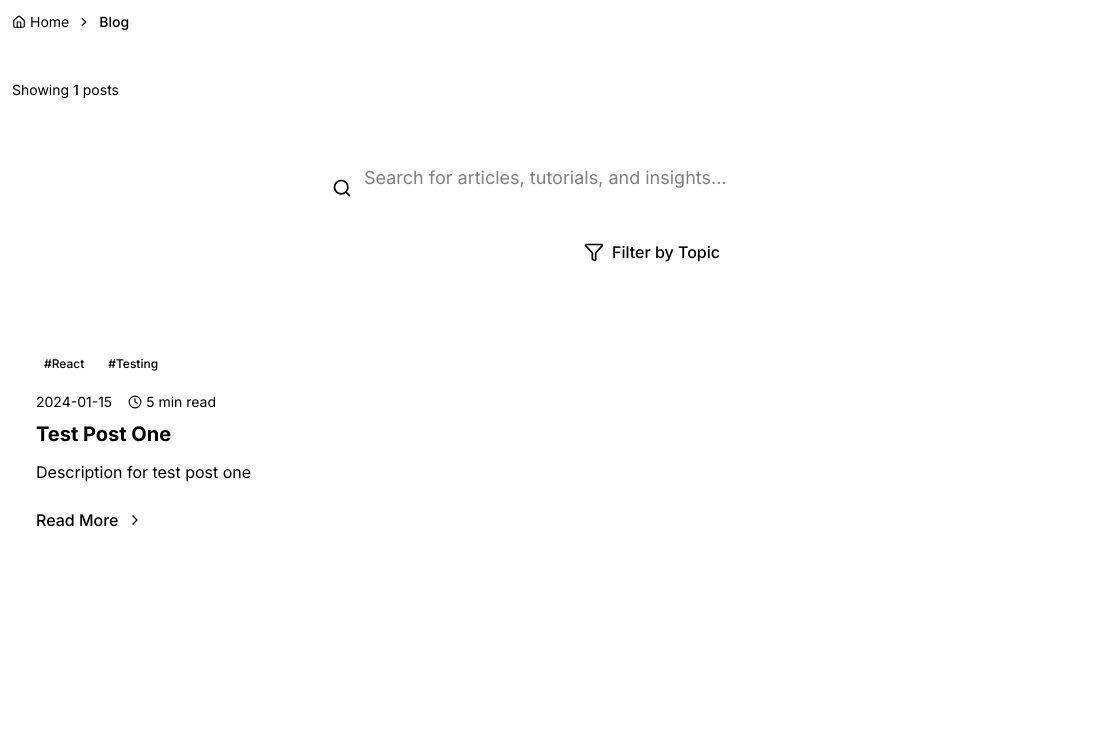
Test: BlogList Component › groups posts with missing category under General
The width and height of the screenshot is (1093, 744).
// Open filter to see groups
Click the button "Filter by Topic".
click(652, 252)  # box [316,224,988,280]
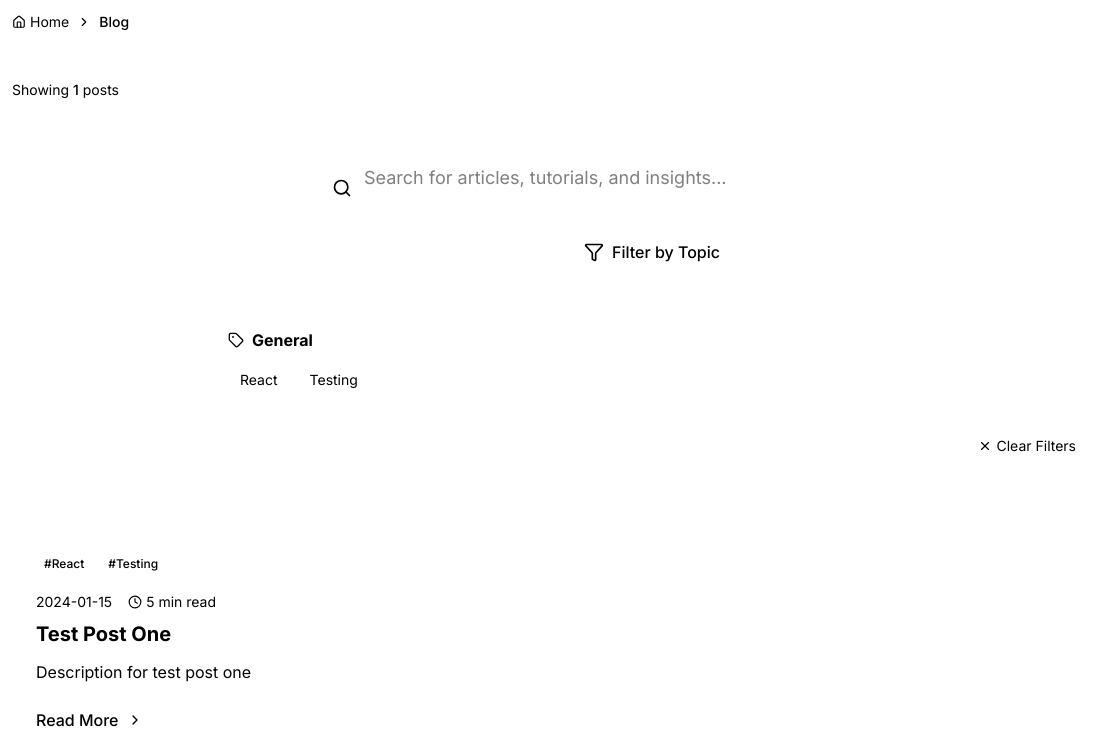
Expected: the heading "General" is shown, [228,330,313,350]
